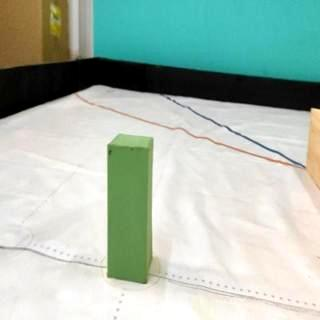greenbox: (108, 134, 154, 286)
